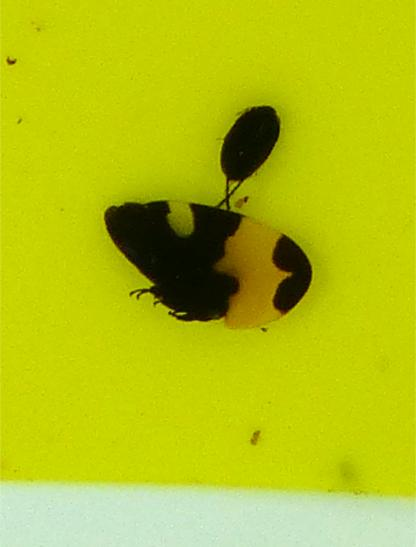Coleoptera: (216, 100, 282, 211)
Hemiptera: (100, 196, 316, 333)
